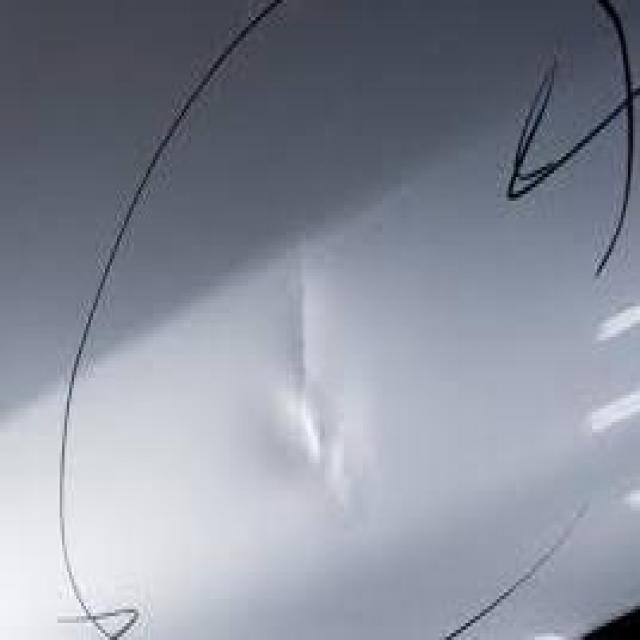dent: (254, 242, 360, 507)
